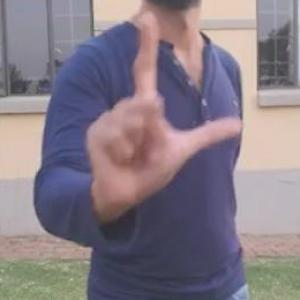land_hand: (75, 3, 245, 215)
